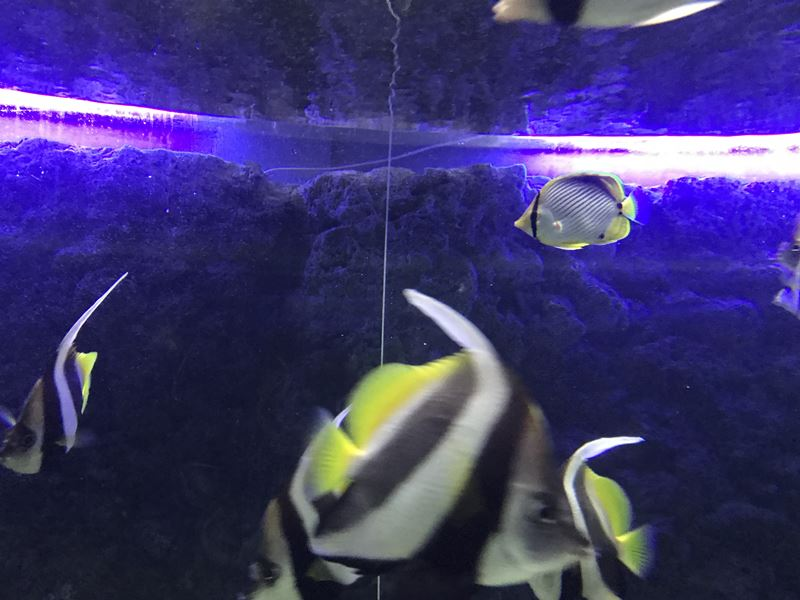Black-backed butterflyfish: (505, 165, 657, 260)
